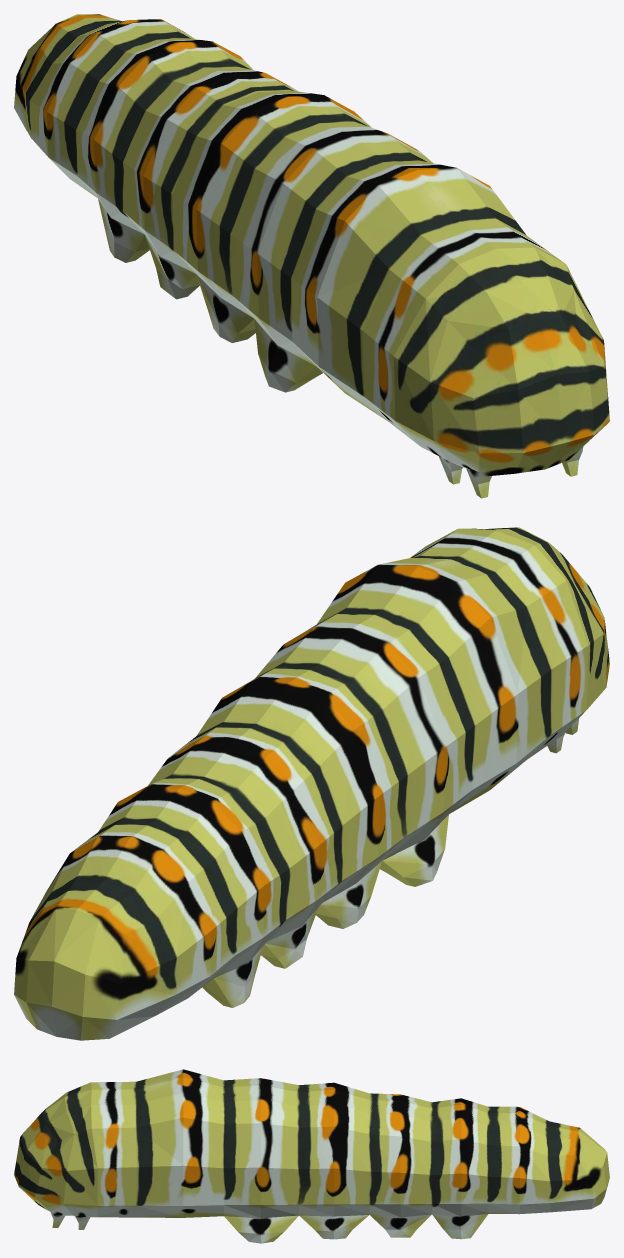
The model's file is Caterpillar.glb.
The picture shows the model from 3 angles, top to bottom: view 1: azimuth 30°, elevation 25°; view 2: azimuth 150°, elevation 25°; view 3: azimuth 270°, elevation 25°; orthographic projection. The views are drawn at different scales.
Parts seen in each view (by area): view 1: Node; view 2: Node; view 3: Node.
Boxes of the visible parts, bbox=[...] form: Node: bbox=[14, 14, 609, 498]; Node: bbox=[14, 527, 609, 1040]; Node: bbox=[14, 1069, 609, 1243].
Size of the model in its own units: 0.7987 by 0.9367 by 3.52.
Materials: 1 (1 with a texture image).
